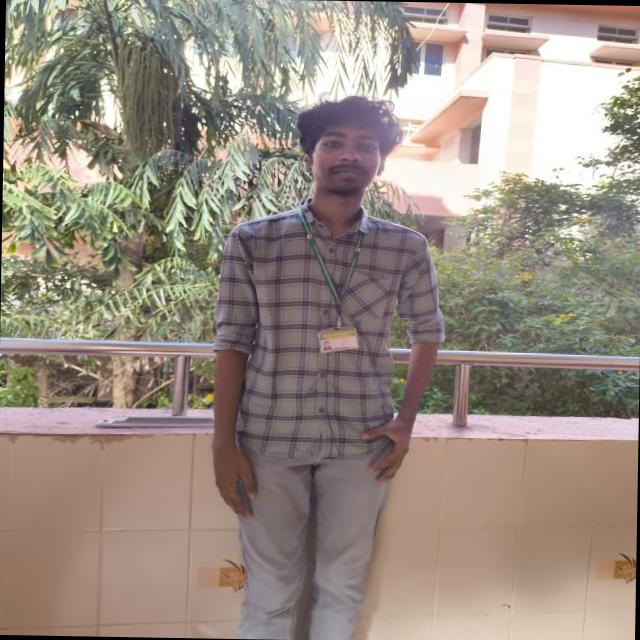id_card: (294, 203, 364, 353)
